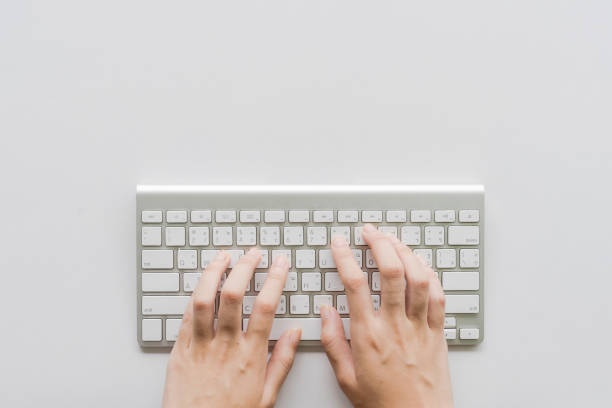keyboard: (136, 191, 482, 346)
